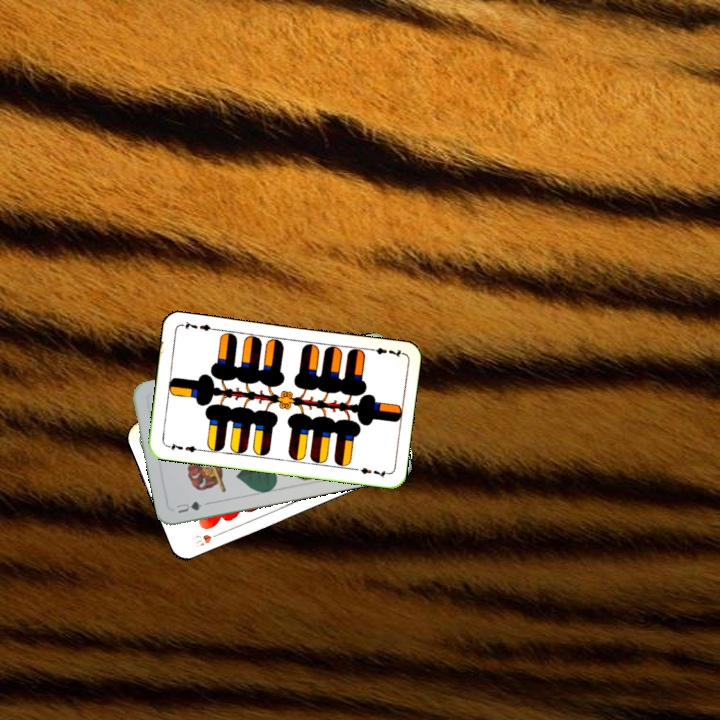E7: (365, 343, 405, 360), (162, 439, 203, 455)
GU: (171, 497, 204, 516)
H10: (188, 528, 224, 549)
